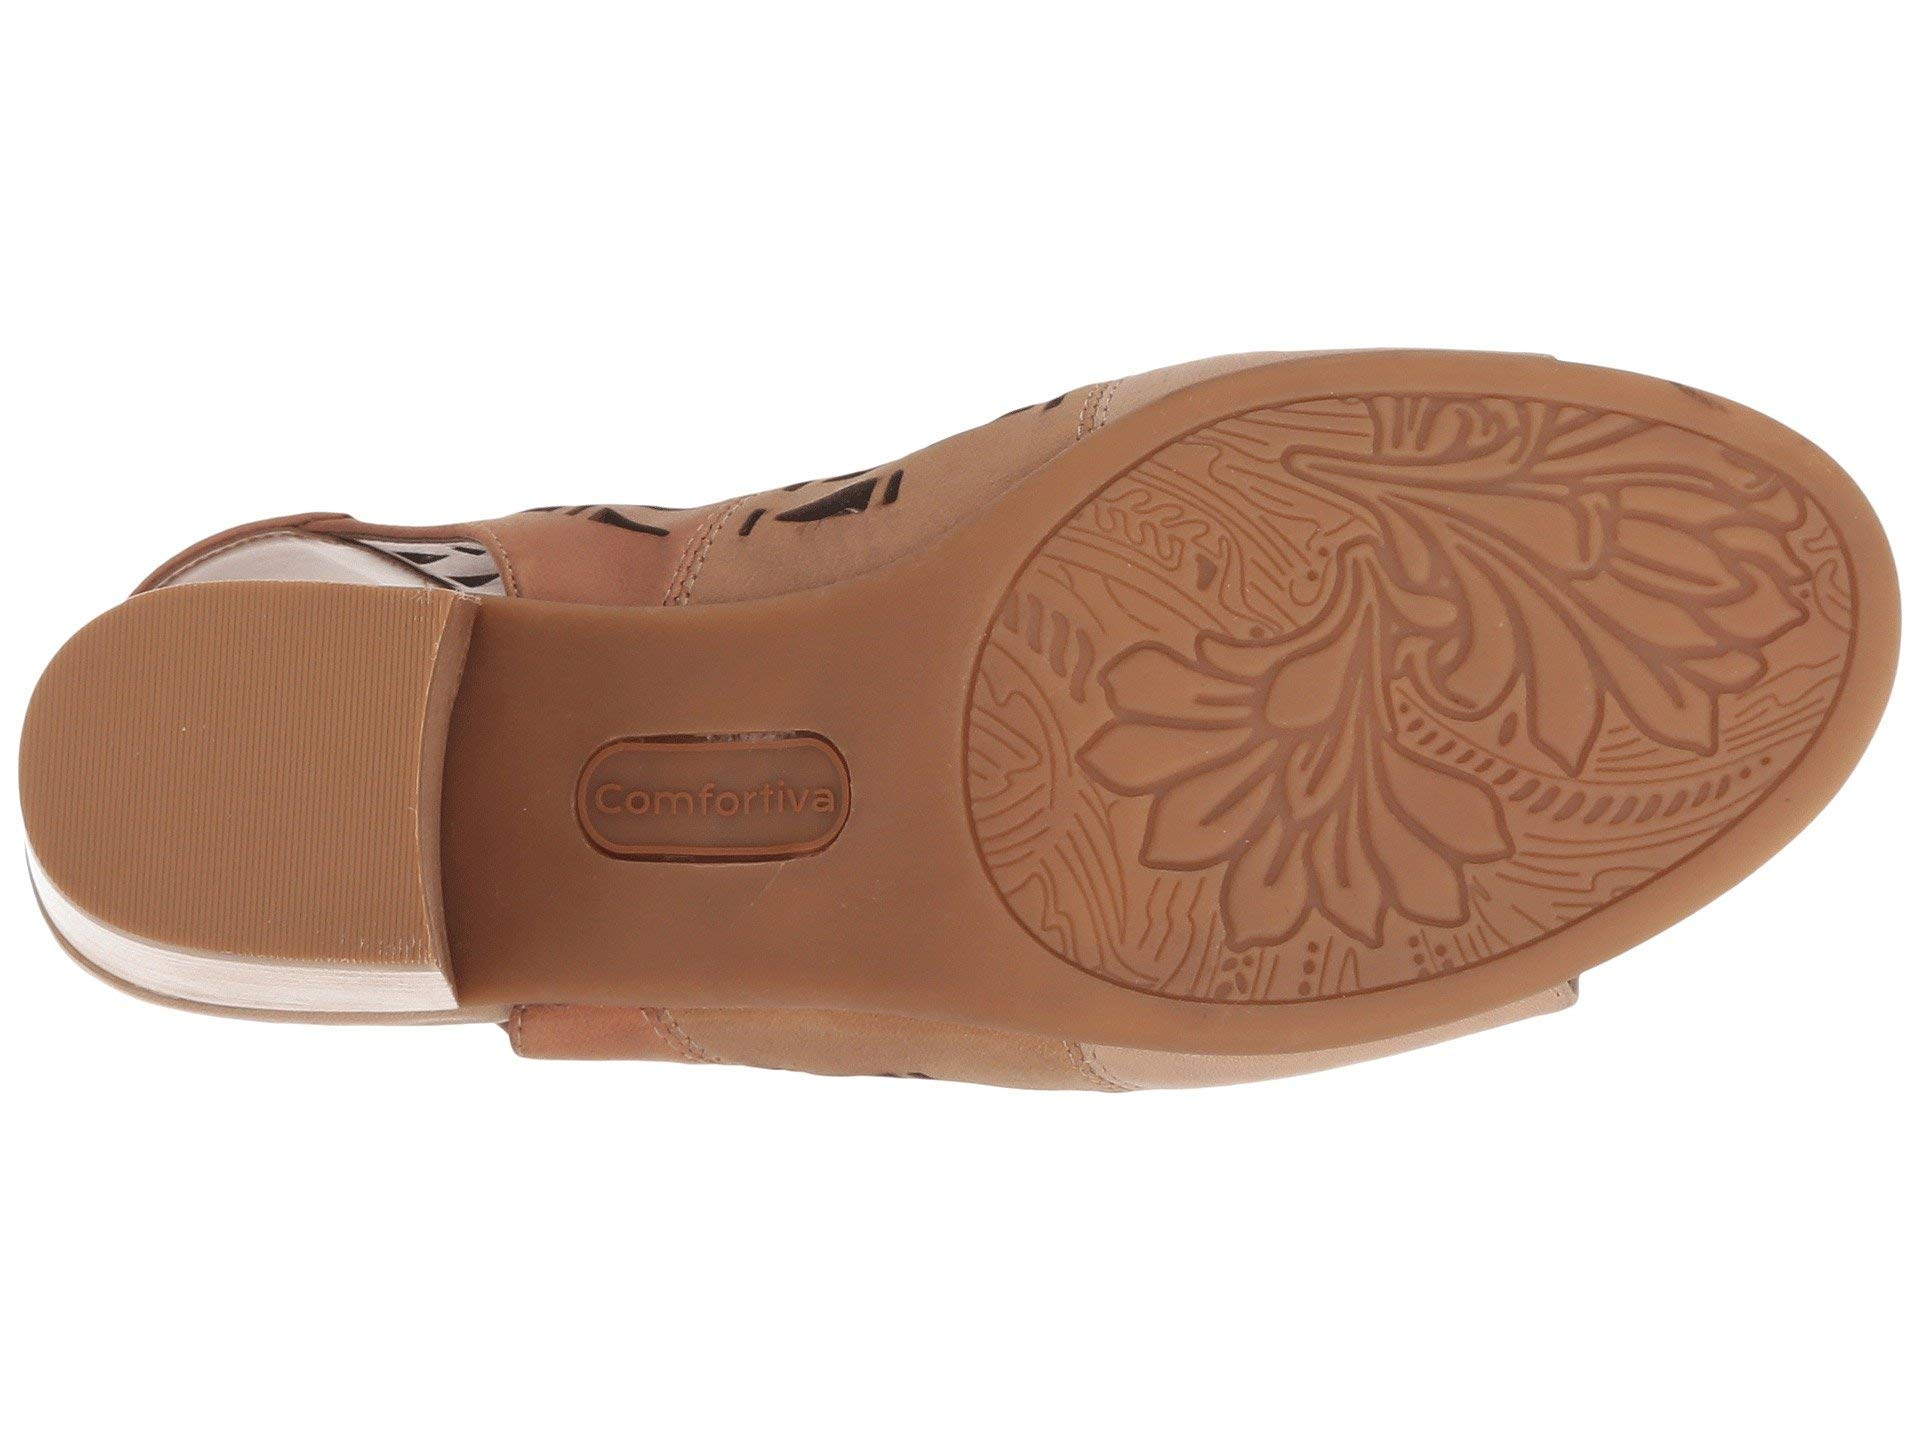circle: (1052, 591, 1482, 1027)
line: (1052, 591, 1482, 1027)
quad: (1052, 591, 1482, 1027)
